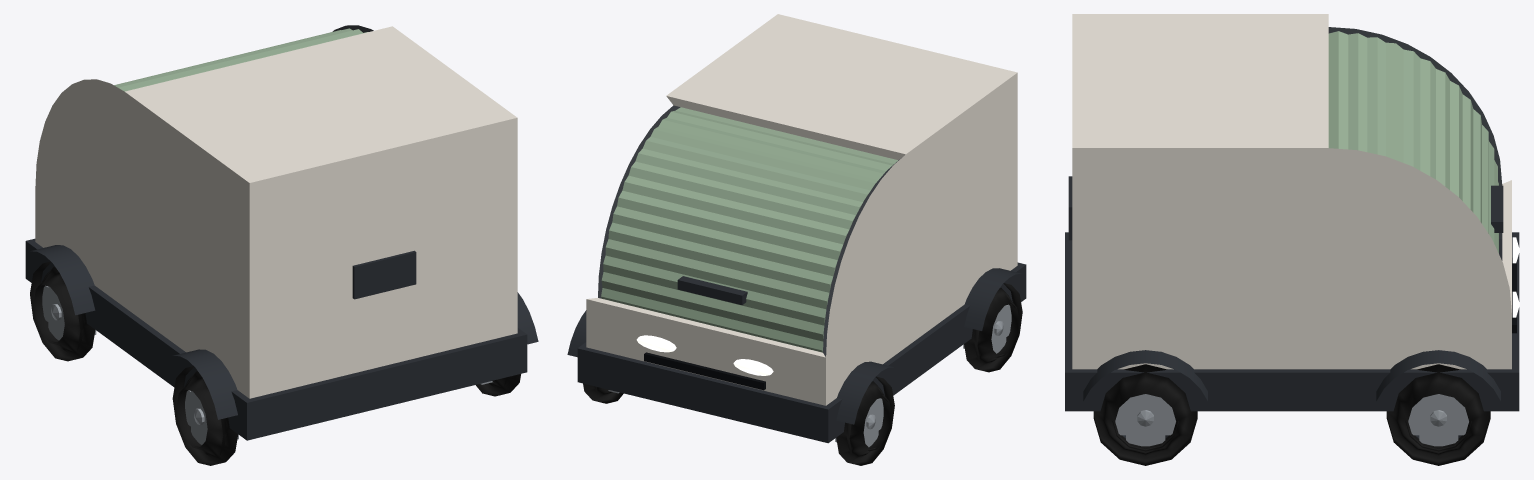
The model's file is sidewalk-bot.glb.
3 renders of one model, left to right at view 1: azimuth 30°, elevation 25°; view 2: azimuth 150°, elevation 25°; view 3: azimuth 270°, elevation 25°, orthographic. The views are drawn at different scales.
Visible parts, largest first — view 1: body, wheel_L2, wheel_L1, lid, wheel_R2; view 2: body, lid, wheel_L1, wheel_L2, wheel_R1; view 3: body, lid, wheel_R1, wheel_R2.
Part boxes in pixels (<box>): body: <box>25,25,538,440</box>; wheel_L2: <box>172,366,238,465</box>; wheel_L1: <box>30,261,96,361</box>; lid: <box>114,28,367,91</box>; wheel_R2: <box>476,374,520,396</box>; body: <box>567,14,1026,443</box>; lid: <box>601,107,897,352</box>; wheel_L1: <box>835,376,894,465</box>; wheel_L2: <box>963,283,1022,372</box>; wheel_R1: <box>583,383,623,403</box>; body: <box>1065,14,1519,411</box>; lid: <box>1328,31,1503,253</box>; wheel_R1: <box>1386,364,1490,465</box>; wheel_R2: <box>1093,364,1197,465</box>.
Size of the model in its own units: 0.622 by 0.56 by 0.745.
